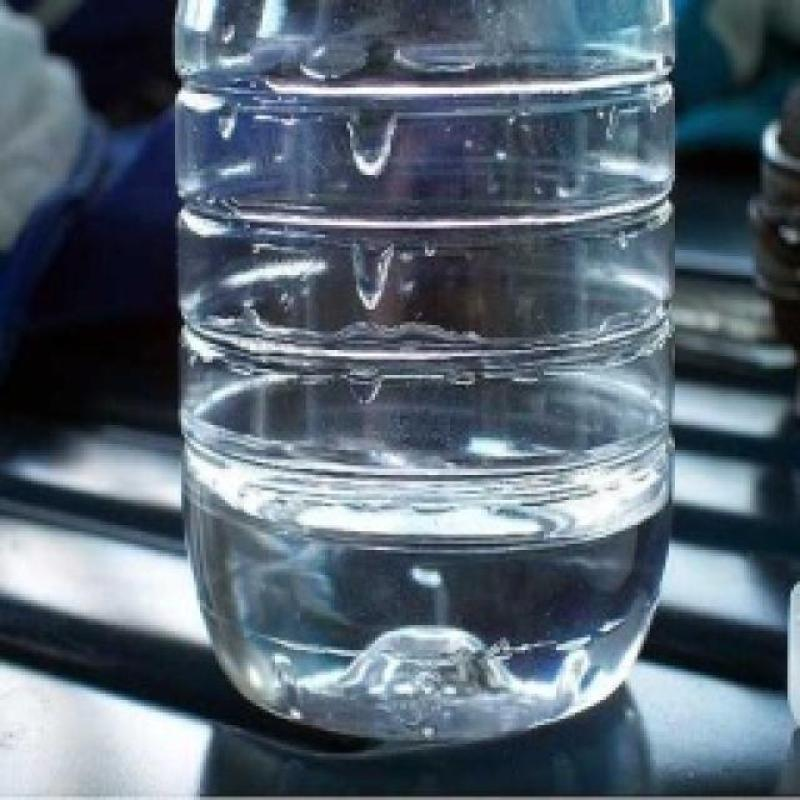botella: (172, 0, 684, 738)
